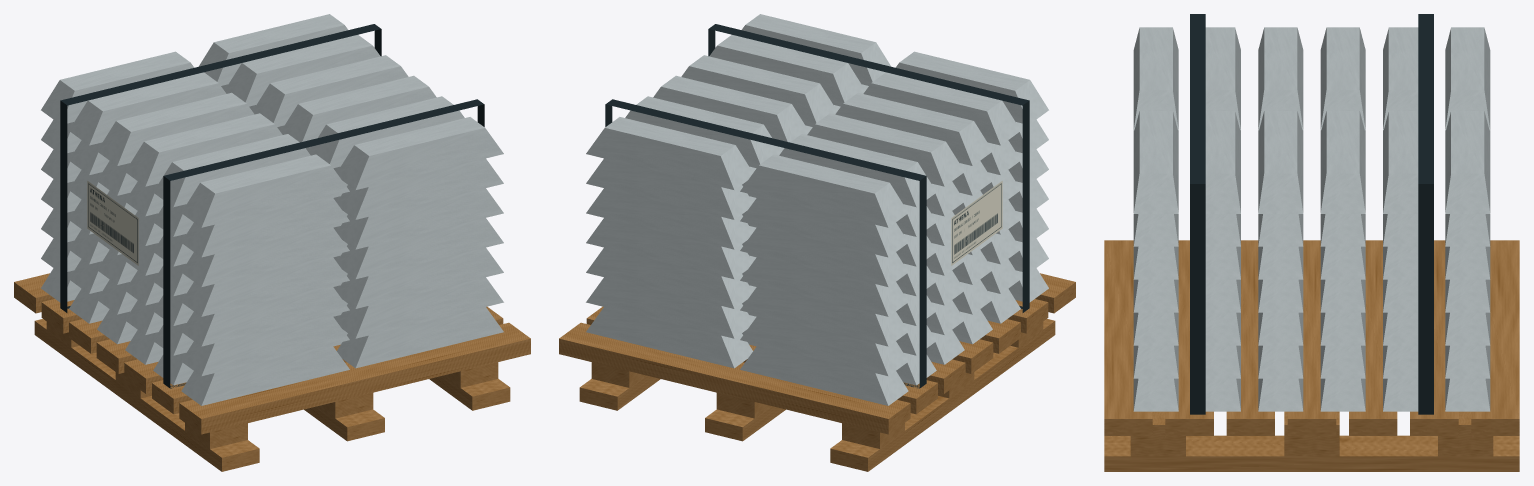
File: aluminium_ingots.glb
The picture shows the model from 3 angles, left to right: view 1: azimuth 30°, elevation 25°; view 2: azimuth 150°, elevation 25°; view 3: azimuth 270°, elevation 25°; orthographic projection. The views are drawn at different scales.
Parts seen in each view (by area): view 1: Cast aluminium, Pine dunnage, Steel banding, Packing label; view 2: Cast aluminium, Pine dunnage, Steel banding, Packing label; view 3: Cast aluminium, Pine dunnage, Steel banding.
Boxes of the visible parts, x1,y1,x2,y2 form: Cast aluminium: (41, 14, 503, 405); Pine dunnage: (14, 273, 530, 471); Steel banding: (60, 24, 484, 388); Packing label: (87, 181, 138, 265); Cast aluminium: (586, 14, 1048, 405); Pine dunnage: (559, 273, 1075, 471); Steel banding: (605, 24, 1029, 388); Packing label: (951, 181, 1002, 265); Cast aluminium: (1133, 27, 1490, 411); Pine dunnage: (1104, 240, 1519, 471); Steel banding: (1190, 14, 1433, 414).
Size of the model in its own units: 1.22 by 0.94 by 1.2.
4 materials, 3 textured.
